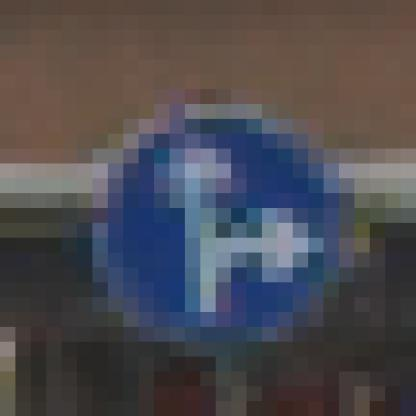Straight or Right: (93, 90, 340, 343)
